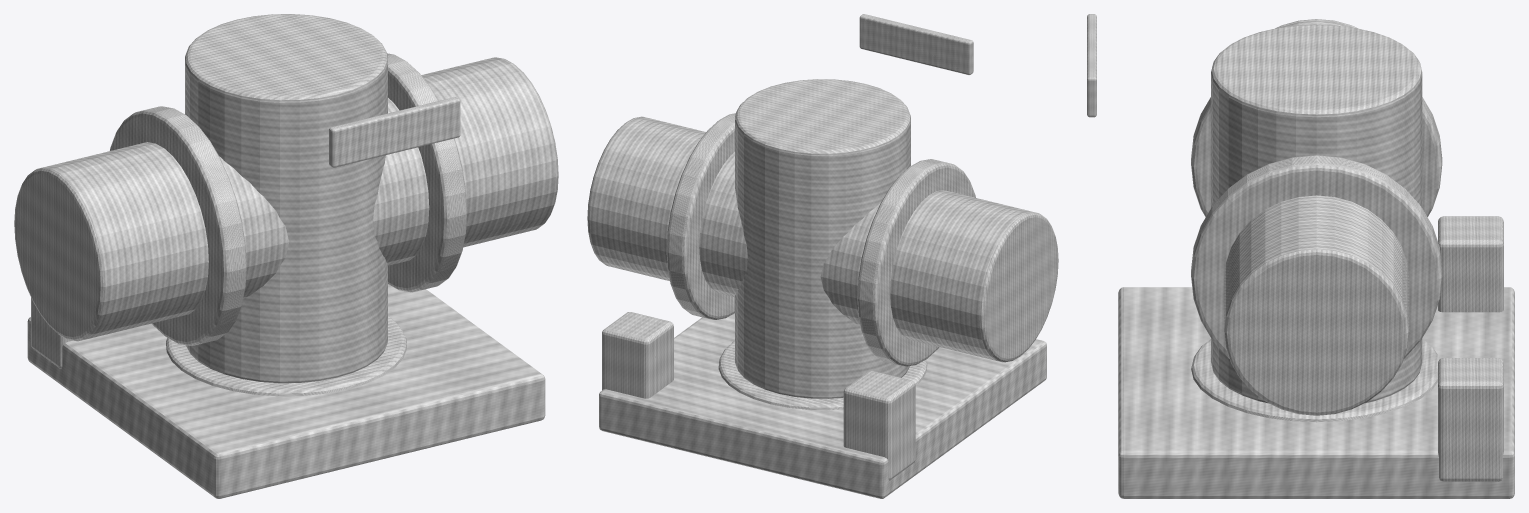
Rendered from pipeline_junction_variant_d.glb.
The picture shows the model from 3 angles, left to right: view 1: azimuth 30°, elevation 25°; view 2: azimuth 150°, elevation 25°; view 3: azimuth 270°, elevation 25°; orthographic projection. The views are drawn at different scales.
Visible parts, largest first — view 1: Junction main.003, Foundation.003, Branch left, Branch right, Flanged port.010, Flanged port.011, Asset ID plate, Flanged port.009, Service foot.006; view 2: Junction main.003, Foundation.003, Branch left, Branch right, Flanged port.010, Flanged port.011, Service foot.006, Service foot.007, Asset ID plate, Flanged port.009; view 3: Foundation.003, Branch right, Junction main.003, Flanged port.011, Service foot.007, Service foot.006, Flanged port.009, Flanged port.010, Asset ID plate.
Boxes of the visible parts, <box> form: Junction main.003: <box>185,14,387,383</box>; Foundation.003: <box>27,284,545,498</box>; Branch left: <box>14,142,288,341</box>; Branch right: <box>373,57,558,265</box>; Flanged port.010: <box>110,106,246,345</box>; Flanged port.011: <box>387,53,466,292</box>; Asset ID plate: <box>329,97,460,167</box>; Flanged port.009: <box>166,316,406,396</box>; Service foot.006: <box>31,298,72,368</box>; Junction main.003: <box>735,79,910,398</box>; Foundation.003: <box>599,313,1046,498</box>; Branch left: <box>820,190,1058,362</box>; Branch right: <box>587,116,748,296</box>; Flanged port.010: <box>857,159,975,366</box>; Flanged port.011: <box>666,113,735,319</box>; Service foot.006: <box>843,371,915,480</box>; Service foot.007: <box>602,312,673,398</box>; Asset ID plate: <box>859,14,973,74</box>; Flanged port.009: <box>718,340,927,410</box>; Foundation.003: <box>1118,287,1514,498</box>; Branch right: <box>1224,195,1409,415</box>; Junction main.003: <box>1211,24,1422,403</box>; Flanged port.011: <box>1191,155,1442,358</box>; Service foot.007: <box>1438,358,1503,481</box>; Service foot.006: <box>1438,216,1503,312</box>; Flanged port.009: <box>1191,339,1439,422</box>; Flanged port.010: <box>1191,97,1442,216</box>; Asset ID plate: <box>1087,14,1096,117</box>.
Size of what is drawn, in the model's own units: 2.5 by 1.86 by 1.94.
Materials: 3 (3 with a texture image).
